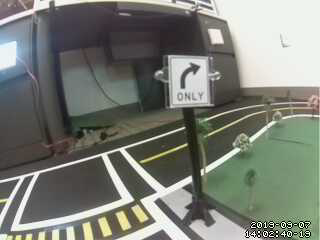Right_only_sign: (167, 55, 219, 104)
